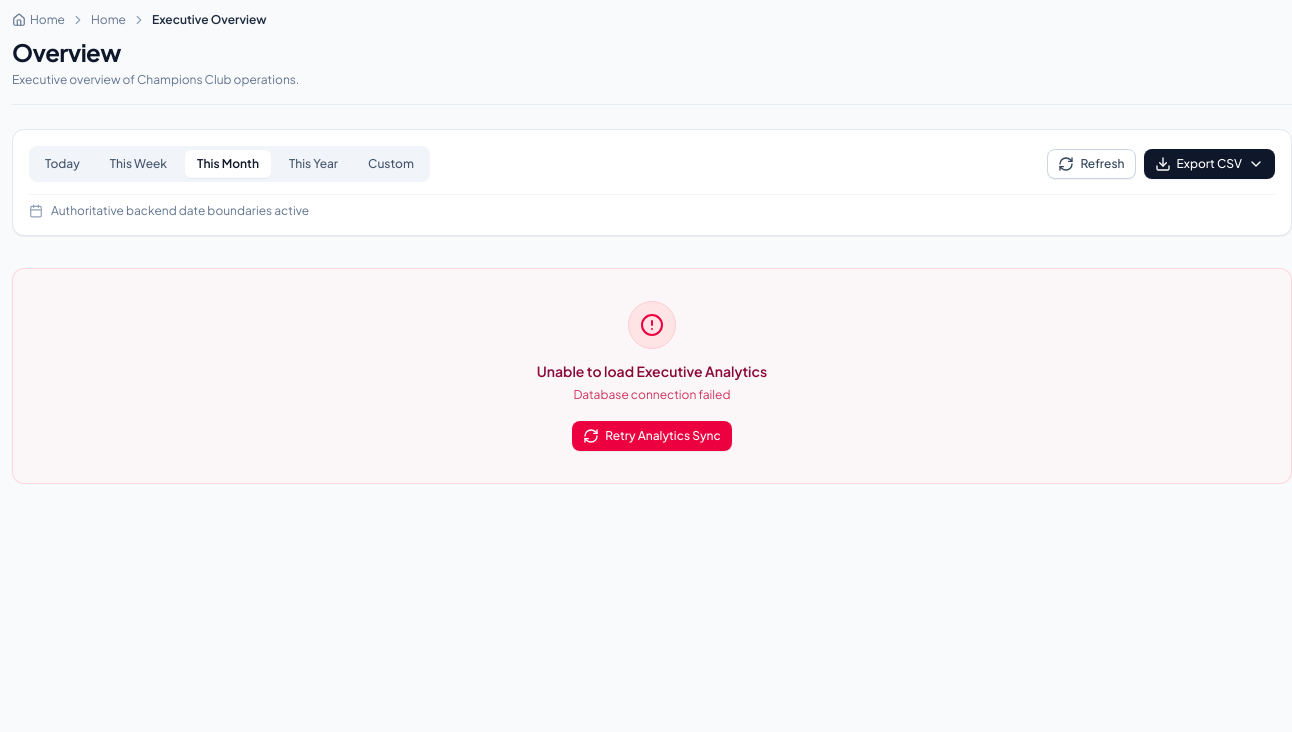
Owner Dashboard (Milestone H4) › displays error state on API failure and retries successfully
Expected: the heading "Unable to load Executive Analytics" is shown, x1=537 y1=361 x2=767 y2=381
Expected: the text "Database connection failed" is shown, x1=574 y1=385 x2=730 y2=404
Click the button "Retry Analytics Sync". click: (652, 436)
box: x1=572 y1=420 x2=732 y2=450
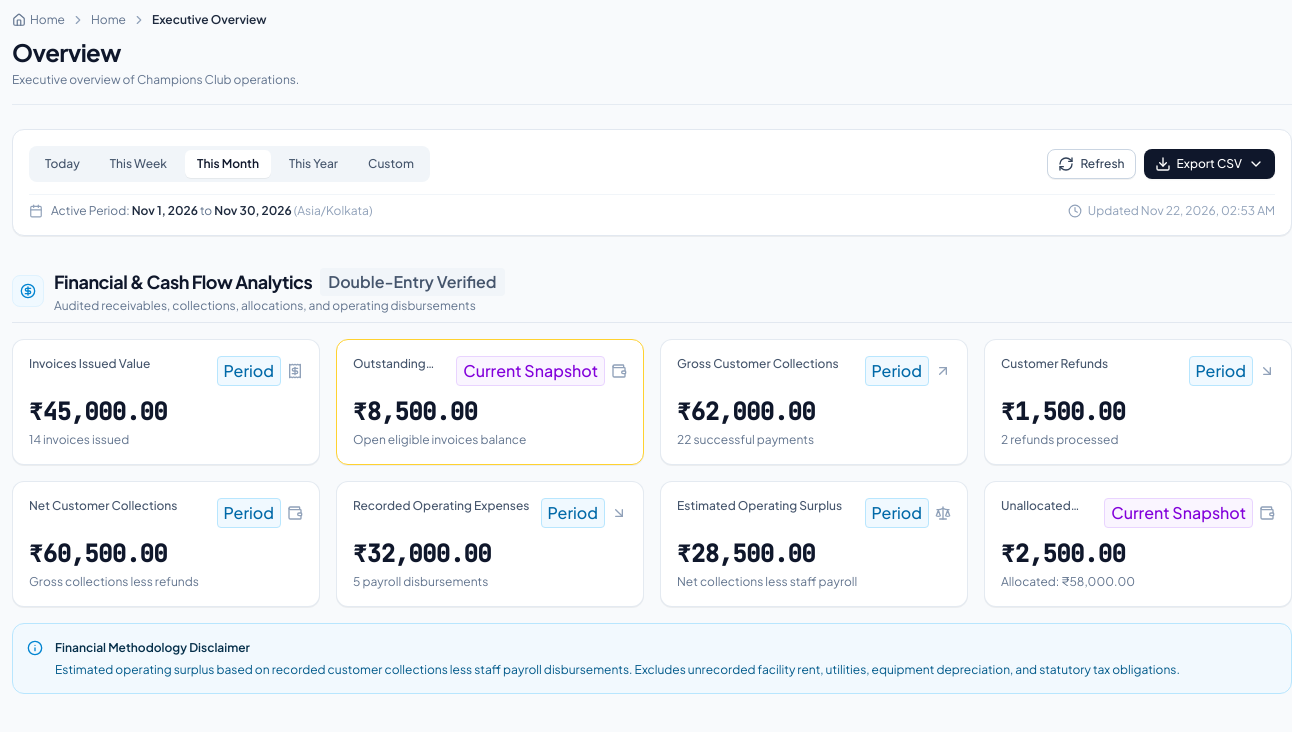
Expected: the heading "Financial & Cash Flow Analytics" is shown, x1=54 y1=268 x2=312 y2=296
